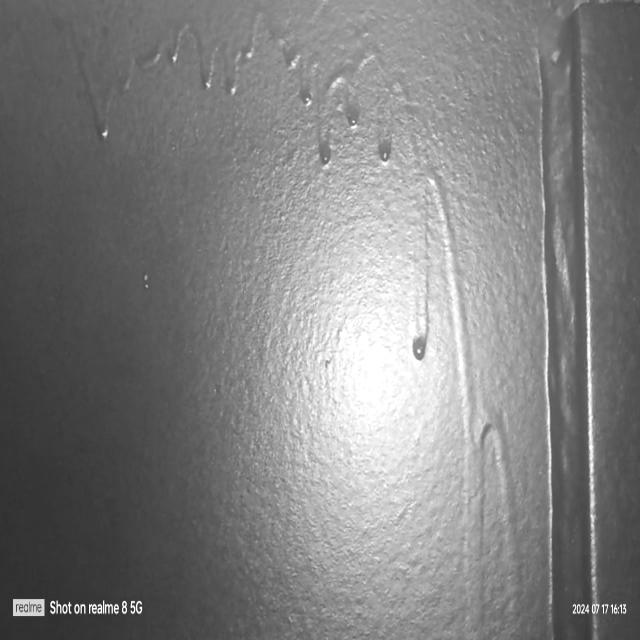paint drips: (404, 89, 530, 640), (66, 5, 404, 188)
